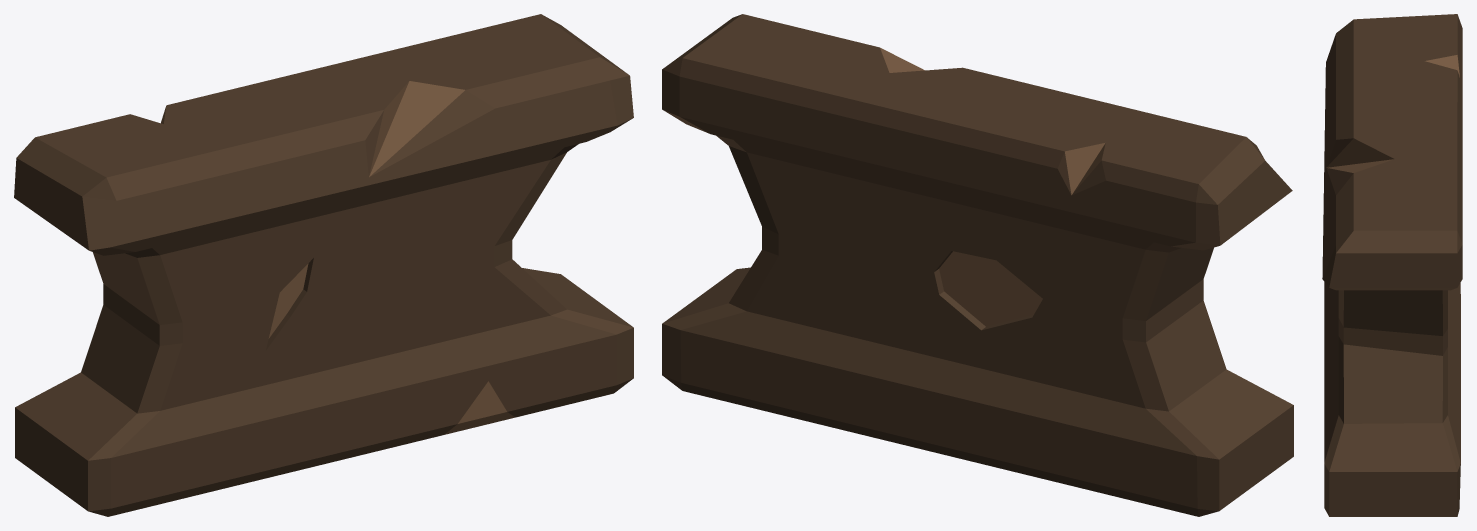
File: Ruin_8_Dark_Brown.fbx
The picture shows the model from 3 angles, left to right: view 1: azimuth 30°, elevation 25°; view 2: azimuth 150°, elevation 25°; view 3: azimuth 270°, elevation 25°; orthographic projection. The views are drawn at different scales.
Visible parts, largest first — view 1: Ruin_8_Dark_Brown; view 2: Ruin_8_Dark_Brown; view 3: Ruin_8_Dark_Brown.
Part boxes in pixels (box(x1,y1,x2,y2)): Ruin_8_Dark_Brown: box(14, 14, 633, 516); Ruin_8_Dark_Brown: box(662, 14, 1293, 516); Ruin_8_Dark_Brown: box(1322, 14, 1462, 516).
Size of the model in its own units: 401 by 228 by 101.
